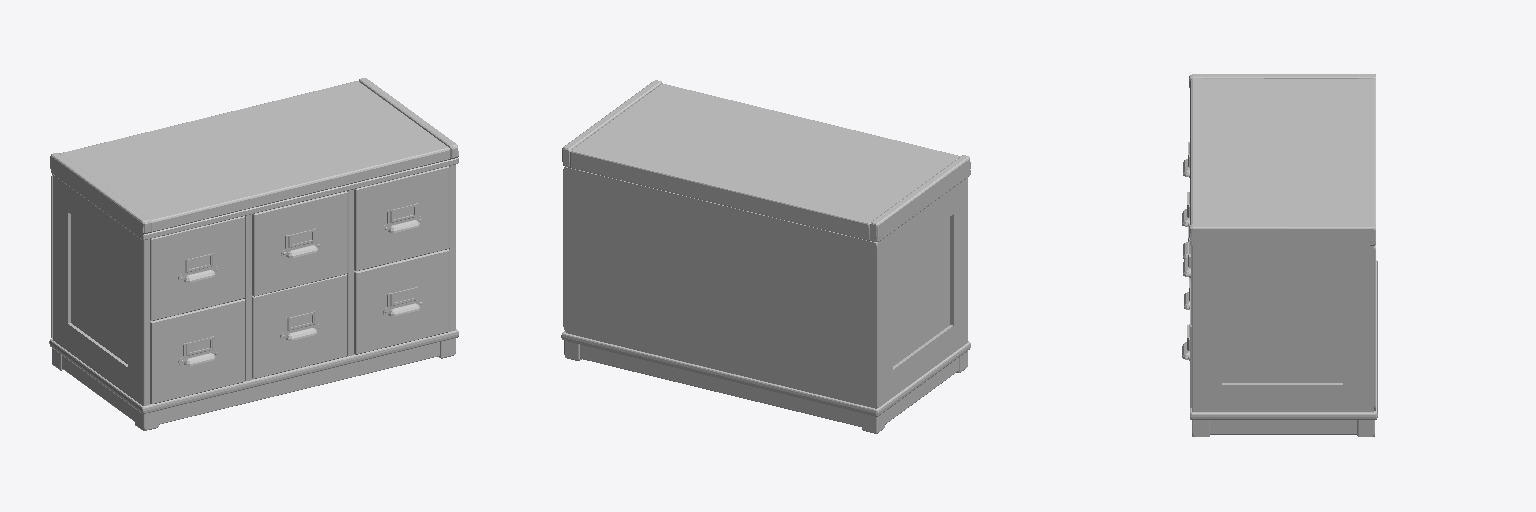
Rendered from drawer.obj.
The picture shows the model from 3 angles: view 1: azimuth 30°, elevation 25°; view 2: azimuth 150°, elevation 25°; view 3: azimuth 270°, elevation 25°; orthographic projection.
Visible parts, largest first — view 1: vintage_wooden_drawer_01_body_Cube.120, vintage_wooden_drawer_01_drawer06_Cube.133, vintage_wooden_drawer_01_drawer02_Cube.129, vintage_wooden_drawer_01_drawer03_Cube.131, vintage_wooden_drawer_01_drawer04_Cube.135, vintage_wooden_drawer_01_drawer01_Cube.128, vintage_wooden_drawer_01_drawer05_Cube.125; view 2: vintage_wooden_drawer_01_body_Cube.120; view 3: vintage_wooden_drawer_01_body_Cube.120.
Boxes of the visible parts, x1=… form: vintage_wooden_drawer_01_body_Cube.120: x1=49, y1=78, x2=458, y2=430; vintage_wooden_drawer_01_drawer06_Cube.133: x1=354, y1=249, x2=449, y2=354; vintage_wooden_drawer_01_drawer02_Cube.129: x1=252, y1=191, x2=347, y2=296; vintage_wooden_drawer_01_drawer03_Cube.131: x1=354, y1=166, x2=449, y2=270; vintage_wooden_drawer_01_drawer04_Cube.135: x1=150, y1=299, x2=244, y2=403; vintage_wooden_drawer_01_drawer01_Cube.128: x1=150, y1=216, x2=244, y2=320; vintage_wooden_drawer_01_drawer05_Cube.125: x1=252, y1=274, x2=346, y2=378; vintage_wooden_drawer_01_body_Cube.120: x1=561, y1=80, x2=970, y2=433; vintage_wooden_drawer_01_body_Cube.120: x1=1189, y1=74, x2=1377, y2=436.
Bounding box in the file's own units: 0.8576 × 0.5454 × 0.4574.